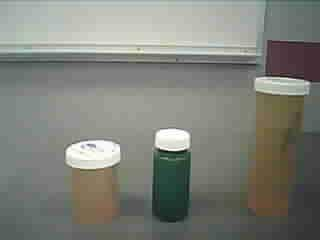Bottle A: (245, 68, 312, 223)
Bottle B: (62, 136, 130, 228)
Bottle C: (150, 126, 193, 227)
